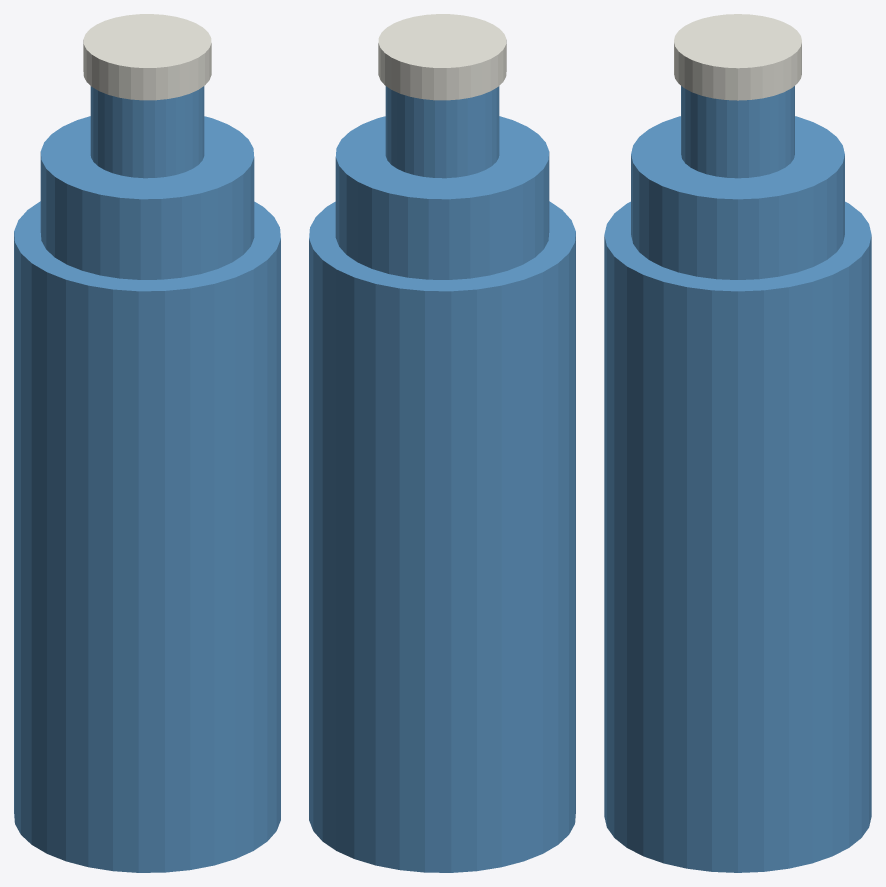
3 views of the same model, side by side, from view 1: azimuth 30°, elevation 25°; view 2: azimuth 150°, elevation 25°; view 3: azimuth 270°, elevation 25° (orthographic).
Visible parts, largest first — view 1: Body, Shoulder, Cap, Neck; view 2: Body, Shoulder, Cap, Neck; view 3: Body, Shoulder, Cap, Neck.
Part boxes in pixels (bbox=[...]): Body: bbox=[14, 201, 280, 872]; Shoulder: bbox=[40, 116, 254, 279]; Cap: bbox=[83, 14, 211, 100]; Neck: bbox=[90, 86, 204, 178]; Body: bbox=[309, 201, 575, 872]; Shoulder: bbox=[335, 116, 549, 279]; Cap: bbox=[378, 14, 506, 100]; Neck: bbox=[385, 86, 499, 178]; Body: bbox=[604, 201, 871, 872]; Shoulder: bbox=[631, 116, 844, 279]; Cap: bbox=[674, 14, 801, 100]; Neck: bbox=[681, 86, 794, 178].
Bounding box in the file's own units: 0.075 × 0.24 × 0.075.
